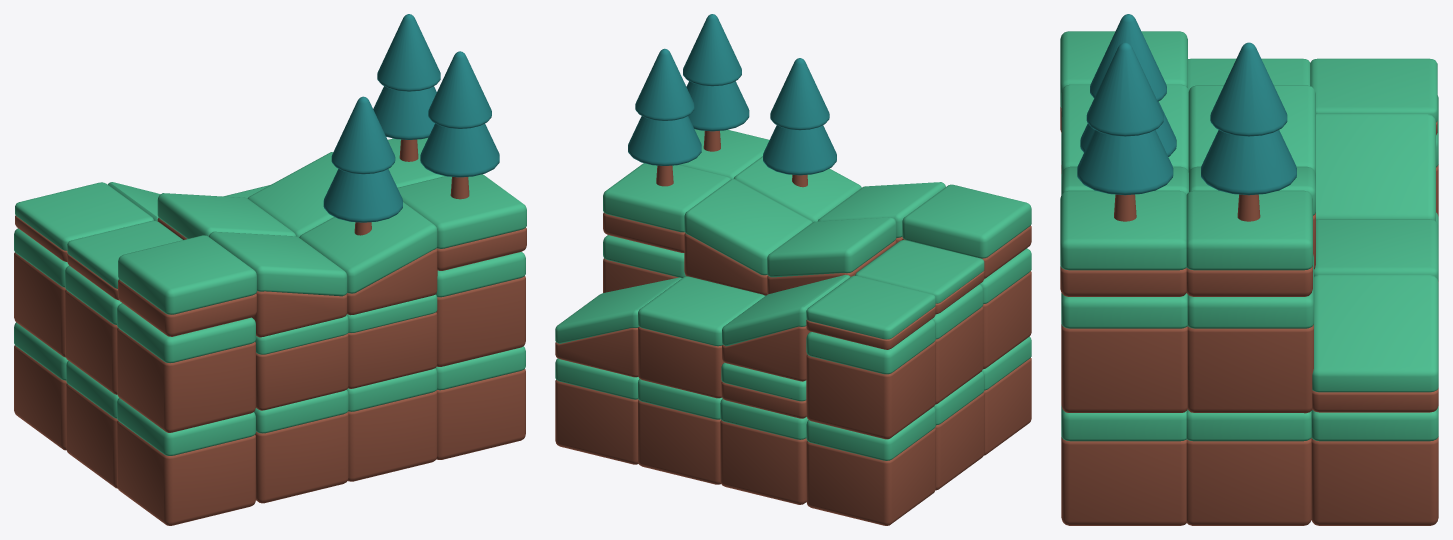
File: floor1.glb
The picture shows the model from 3 angles, left to right: view 1: azimuth 30°, elevation 25°; view 2: azimuth 150°, elevation 25°; view 3: azimuth 270°, elevation 25°; orthographic projection. The views are drawn at different scales.
Parts seen in each view (by area): view 1: tileSlopeLowMedium_forest.003; view 2: tileSlopeLowMedium_forest.003; view 3: tileSlopeLowMedium_forest.003.
Boxes of the visible parts, x1,y1,x2,y2 form: tileSlopeLowMedium_forest.003: [14, 14, 526, 525]; tileSlopeLowMedium_forest.003: [555, 14, 1031, 525]; tileSlopeLowMedium_forest.003: [1060, 14, 1438, 525].
Size of the model in its own units: 7.92 by 7.96 by 5.93.
